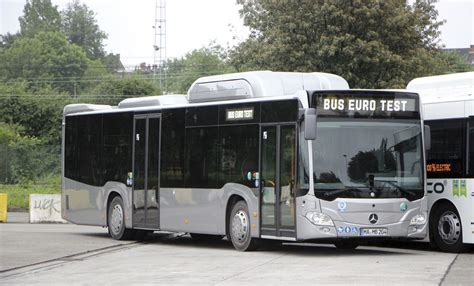bus: (64, 77, 431, 252)
